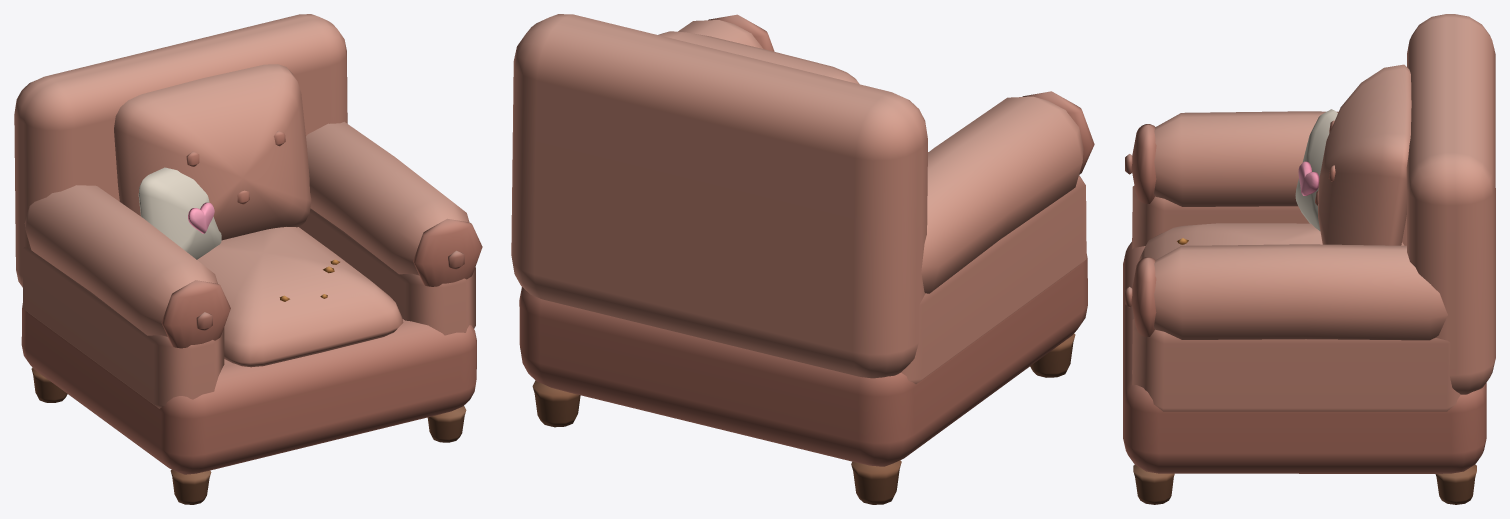
The model's file is furn-armchair.glb.
The picture shows the model from 3 angles, left to right: view 1: azimuth 30°, elevation 25°; view 2: azimuth 150°, elevation 25°; view 3: azimuth 270°, elevation 25°; orthographic projection. The views are drawn at different scales.
Visible parts, largest first — view 1: cloth, body; view 2: cloth, body; view 3: cloth, body.
Boxes of the visible parts, box(x1,y1,x2,y2) form: cloth: box(14, 14, 482, 474); body: box(31, 202, 466, 504); cloth: box(511, 14, 1094, 466); body: box(532, 333, 1075, 504); cloth: box(1123, 14, 1495, 473); body: box(1133, 161, 1476, 504).
Size of the model in its own units: 0.942 by 0.86 by 0.841.
